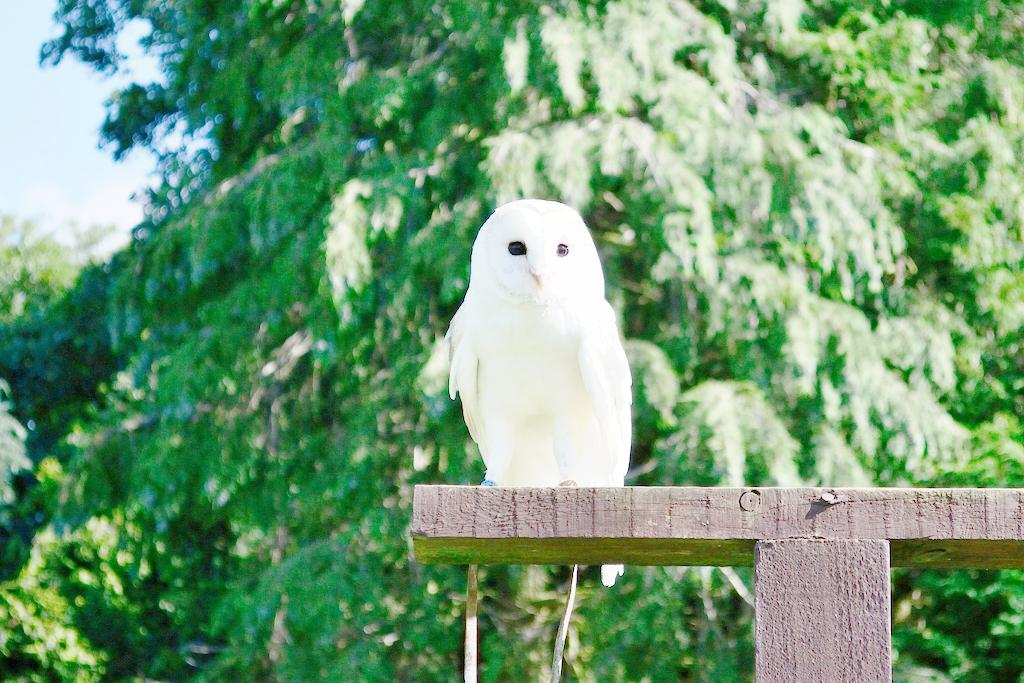Owl: (424, 199, 658, 599)
